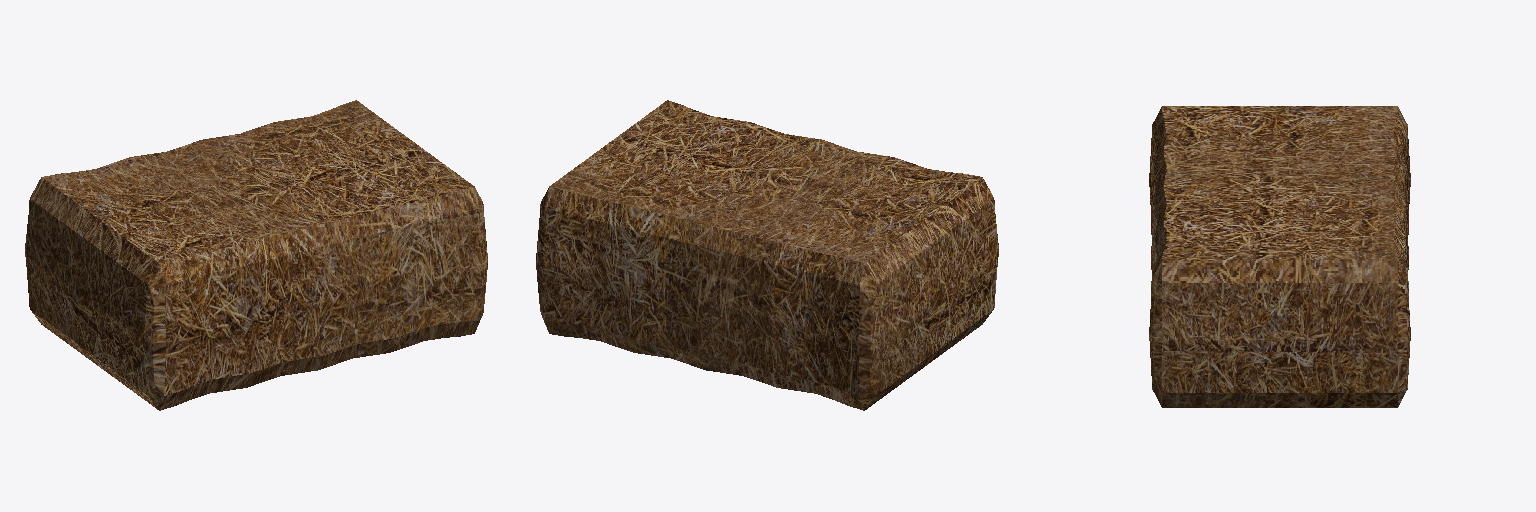
The picture shows the model from 3 angles: view 1: azimuth 30°, elevation 25°; view 2: azimuth 150°, elevation 25°; view 3: azimuth 270°, elevation 25°; orthographic projection.
Parts seen in each view (by area): view 1: Cube.001; view 2: Cube.001; view 3: Cube.001.
Part boxes in pixels (bbox=[...]): Cube.001: bbox=[25, 100, 487, 410]; Cube.001: bbox=[536, 100, 998, 410]; Cube.001: bbox=[1149, 106, 1410, 407].
Bounding box in the file's own units: 2 × 0.8225 × 1.32.
1 materials, 1 textured.